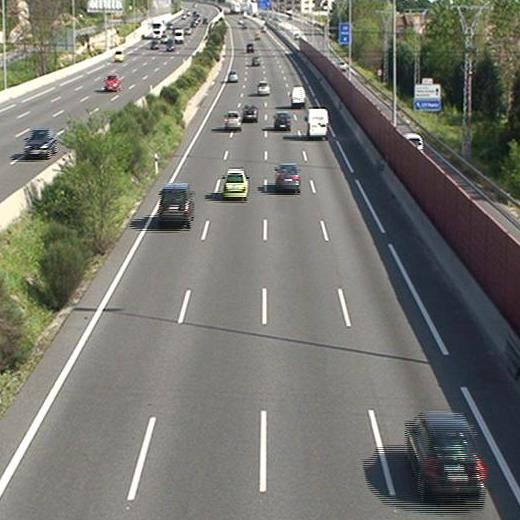car: (405, 416, 487, 498), (159, 183, 192, 221), (222, 170, 247, 198), (275, 163, 300, 190), (223, 111, 242, 130), (274, 111, 292, 131), (241, 105, 258, 124), (257, 83, 269, 95), (228, 70, 237, 83), (251, 55, 261, 66)
van: (305, 107, 328, 138), (292, 85, 305, 106)
